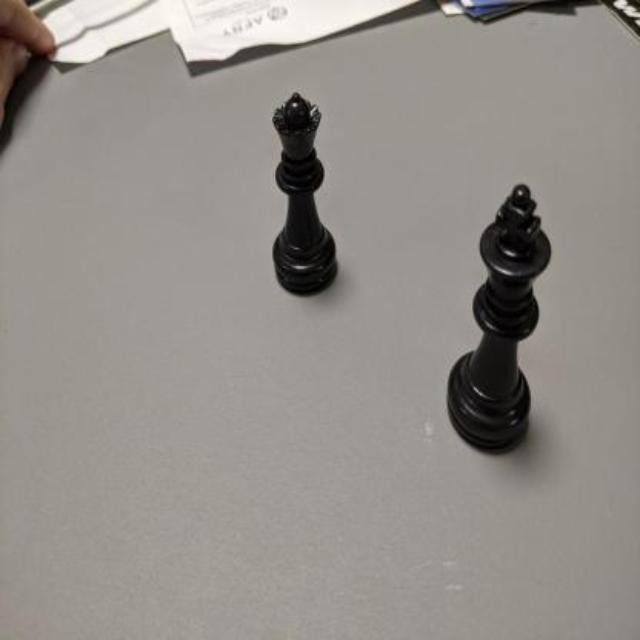black-king: (446, 184, 550, 451)
black-queen: (271, 90, 338, 297)
